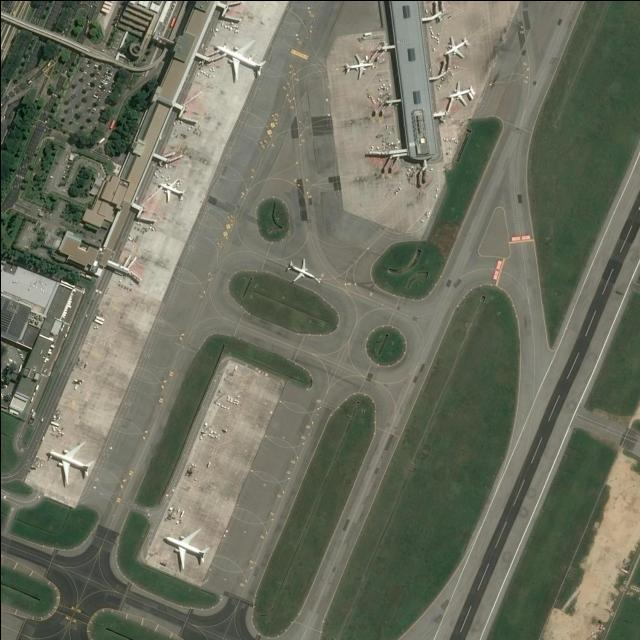Aircraft: (161, 526, 215, 571), (41, 440, 94, 485), (214, 35, 264, 78), (340, 50, 371, 78), (442, 33, 472, 61), (286, 256, 316, 284), (444, 81, 474, 104), (157, 176, 184, 200)
